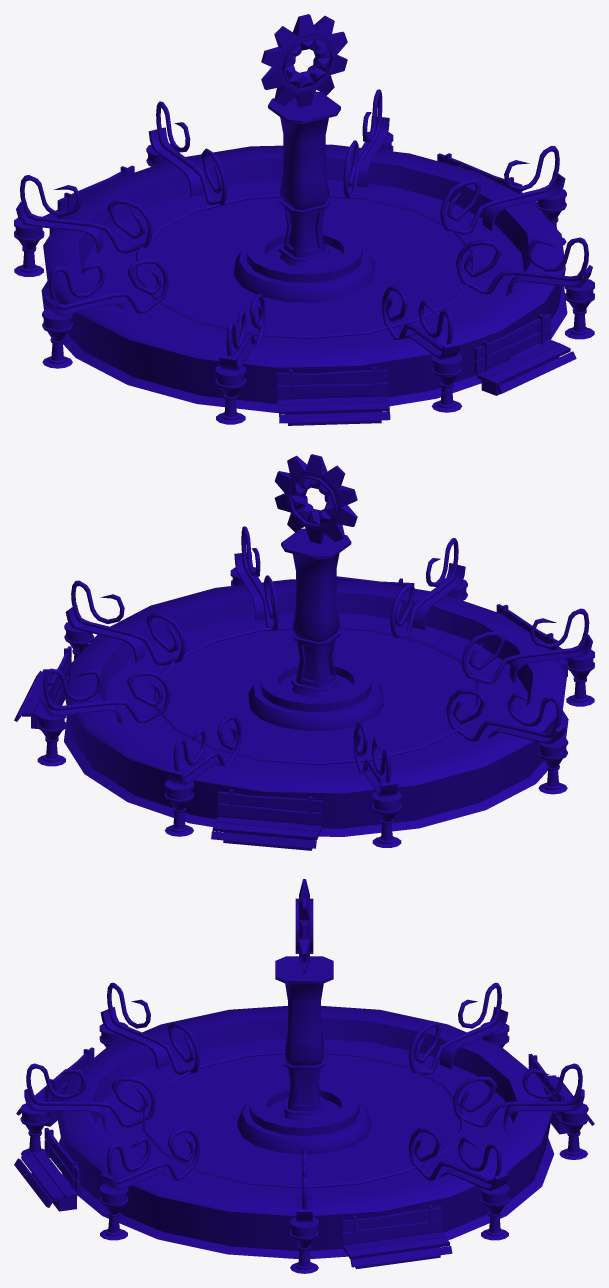
The model's file is CG_Model_TownExt_Fountain_Mar24_ChrisMcknight.FBX.
The picture shows the model from 3 angles, top to bottom: view 1: azimuth 30°, elevation 25°; view 2: azimuth 150°, elevation 25°; view 3: azimuth 270°, elevation 25°; orthographic projection. The views are drawn at different scales.
Parts seen in each view (by area): view 1: Fountain; view 2: Fountain; view 3: Fountain.
Boxes of the visible parts, box(x1,y1,x2,y2) form: Fountain: box(14, 14, 594, 425); Fountain: box(14, 454, 594, 850); Fountain: box(14, 879, 594, 1273).
Size of the model in its own units: 205 by 106 by 207.
